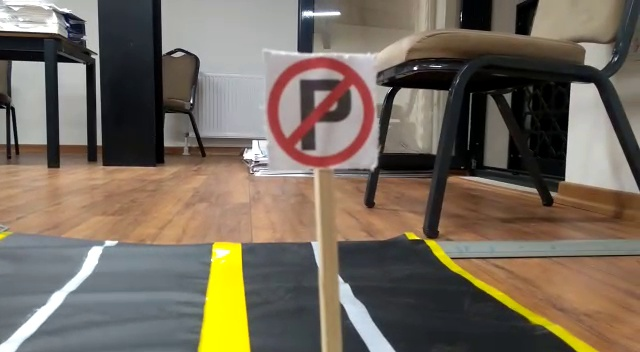park_yapilmaz: (263, 51, 375, 171)
